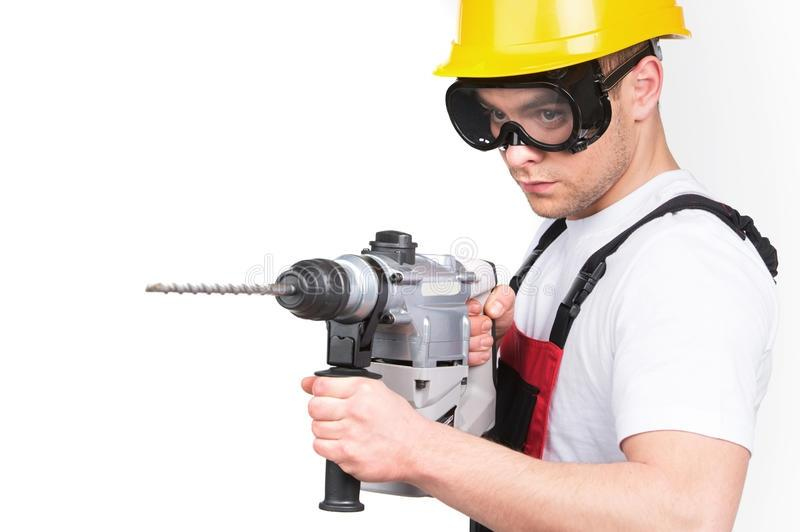helmet: (426, 0, 695, 84)
no_wear: (465, 229, 778, 532)
